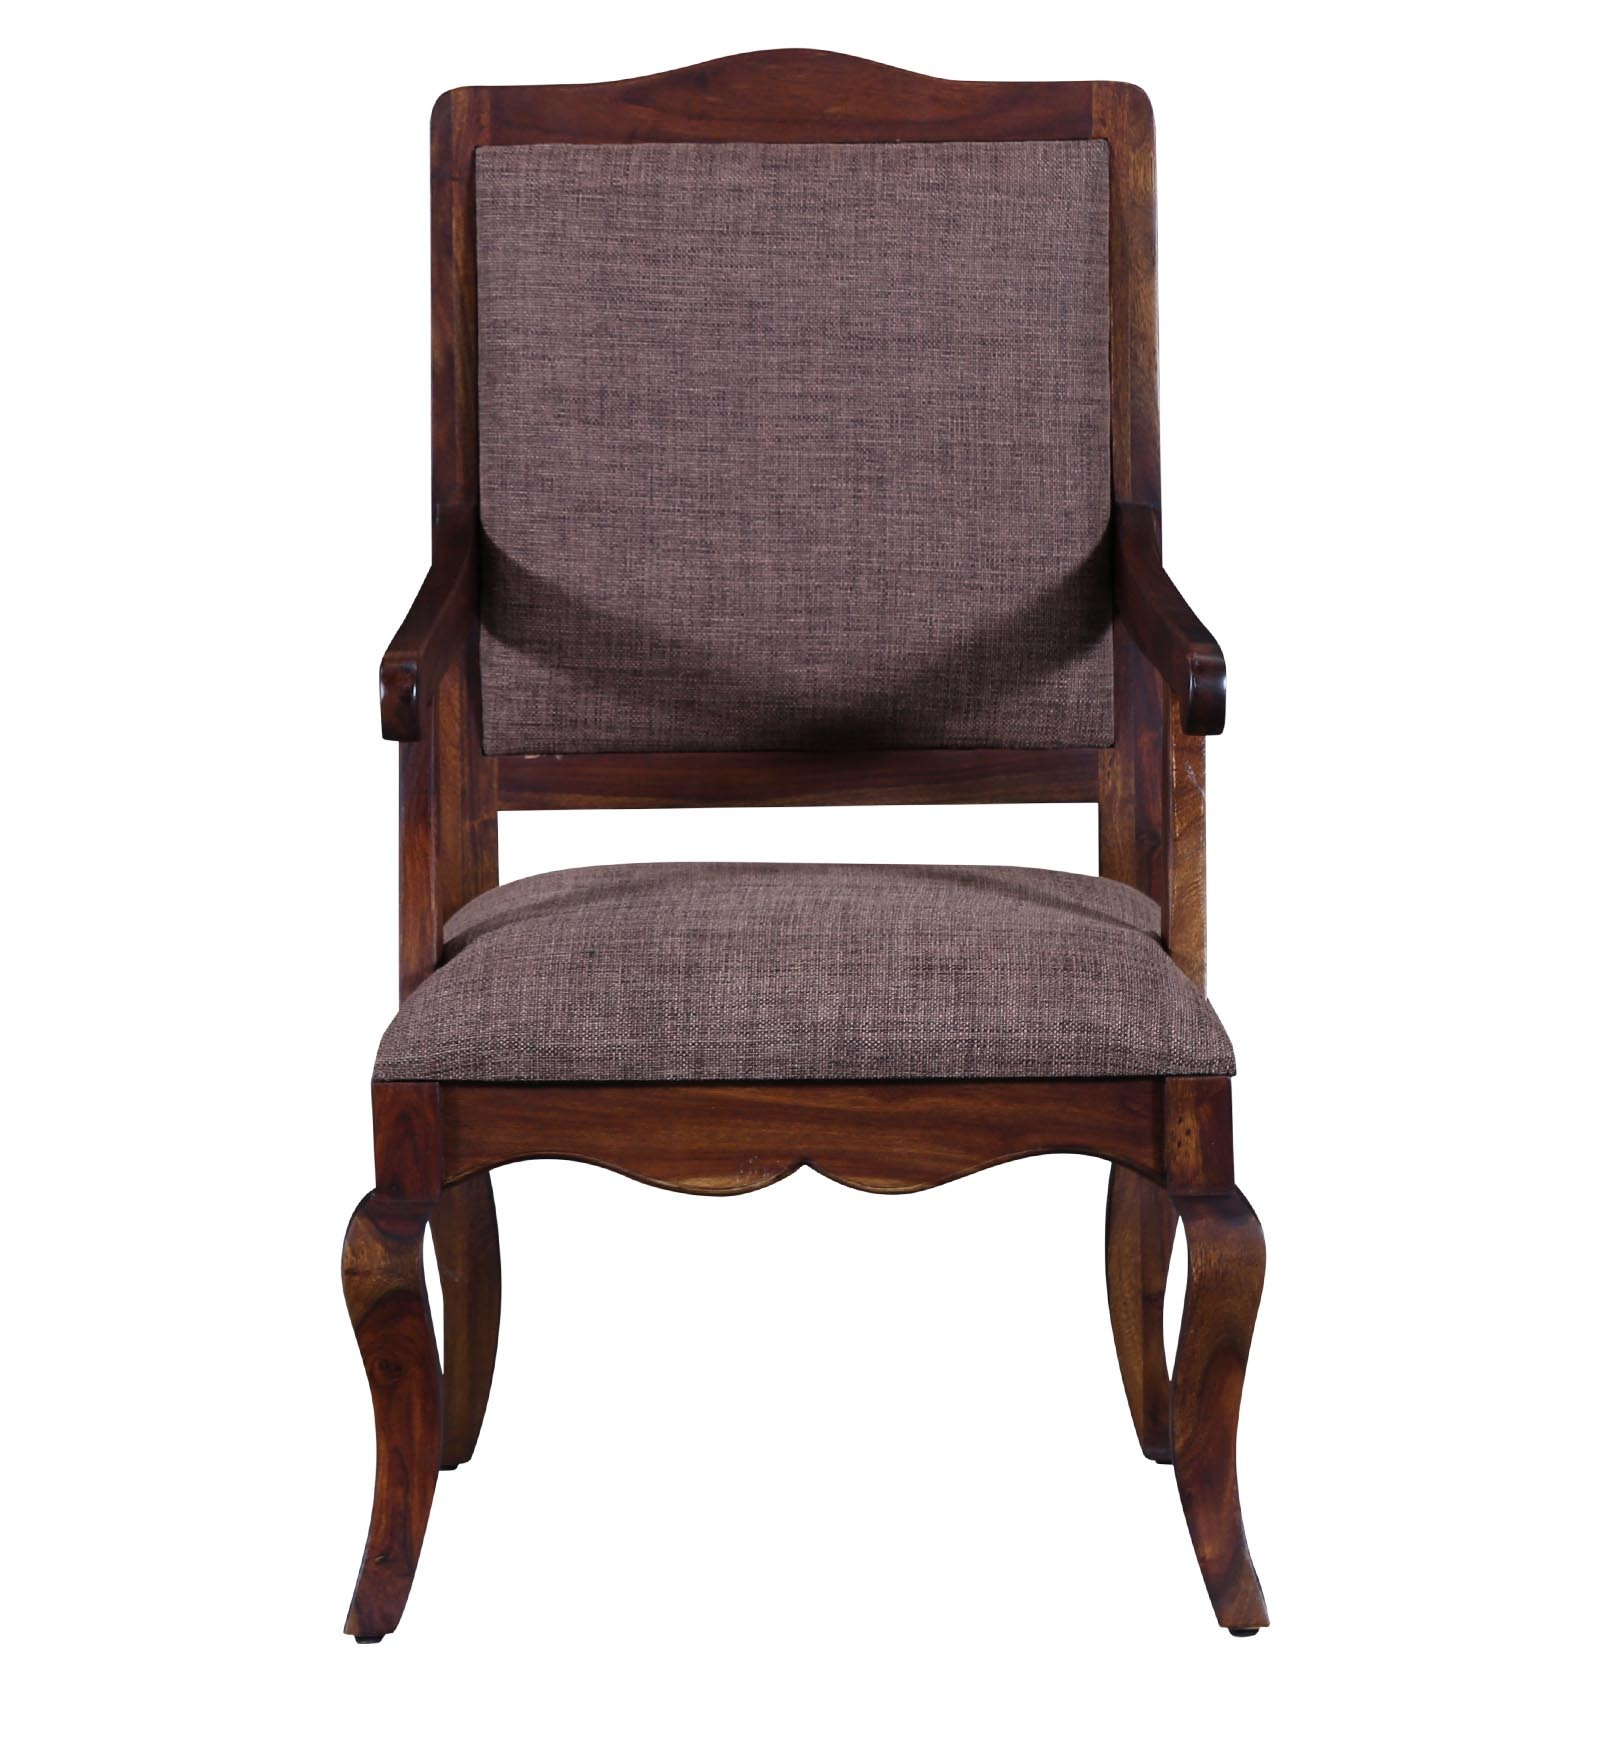Anne Arm Chair in Provincial Teak Finish by Amberville: (307, 28, 1310, 1726)
